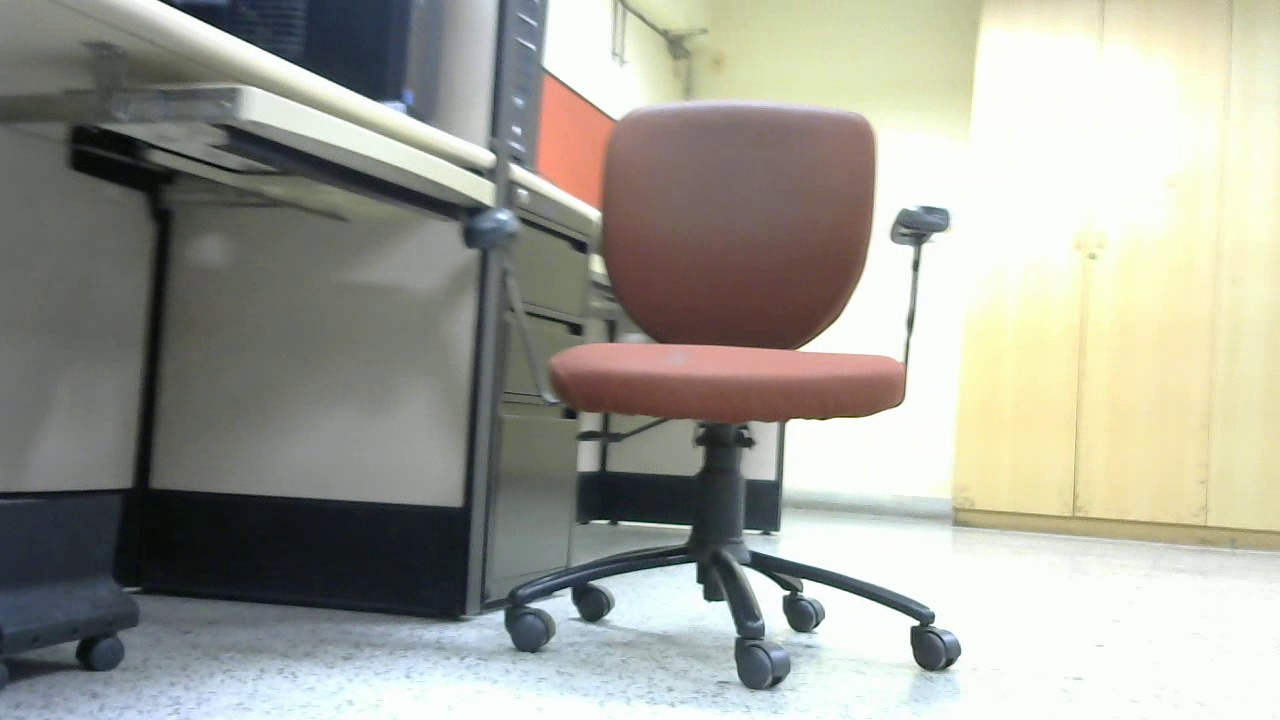chair: (466, 218, 717, 540), (103, 166, 287, 500)
